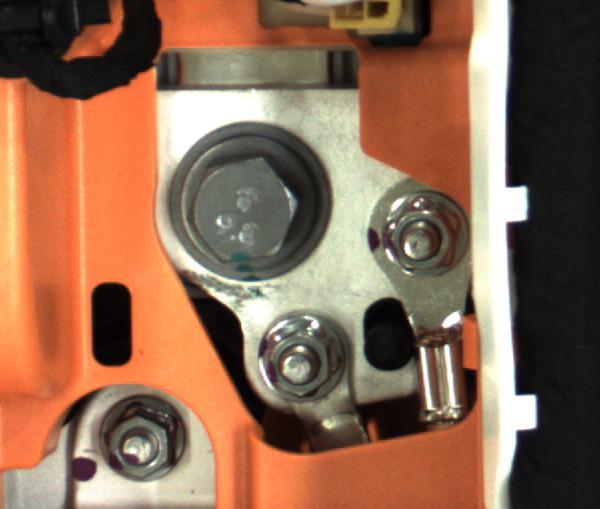nut_b: (164, 133, 334, 272)
screw_s: (247, 324, 372, 424), (87, 391, 201, 478), (390, 186, 479, 291)
